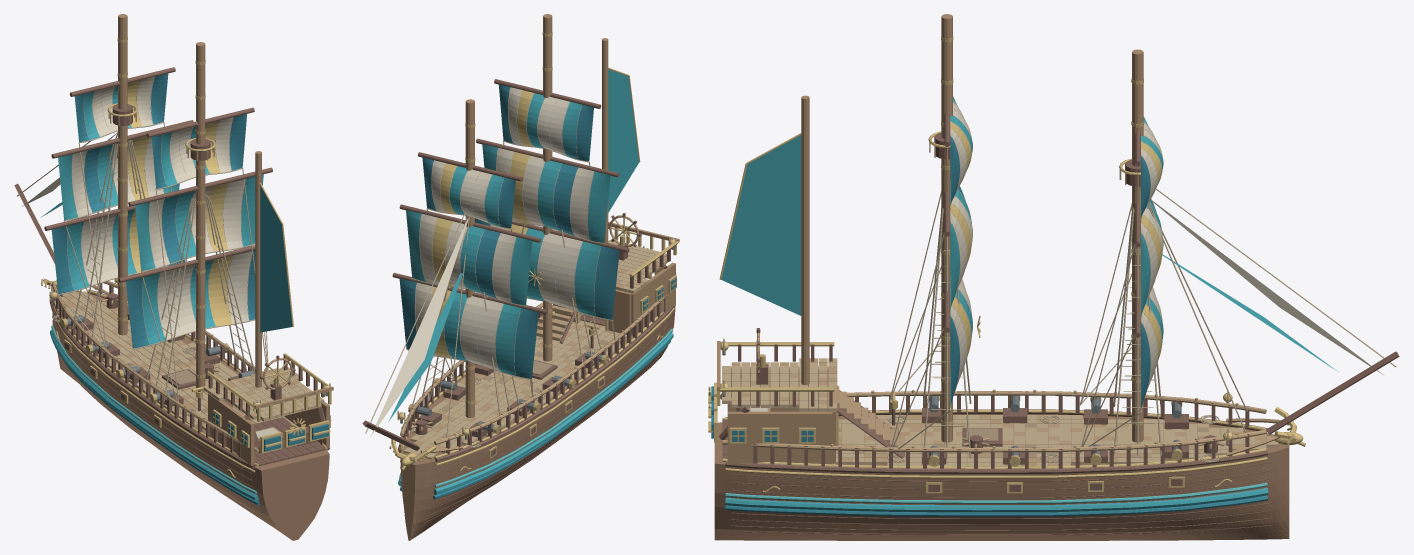
Rendered from morskoy_strannik_v2.glb.
3 renders of one model, left to right at view 1: azimuth 30°, elevation 25°; view 2: azimuth 150°, elevation 25°; view 3: azimuth 270°, elevation 25°, orthographic. The views are drawn at different scales.
Parts seen in each view (by area): view 1: MorskoyStrannik_CarvedHull, yards_0061, MorskoyStrannik_Deck, standing_shrouds_0068, _Sail_2_0_0_0157, mast_1_main_0070, mast_0_main_0059, bulwark_posts_0017, MorskoyStrannik_Quarterdeck, cabin_side_wall_0022, sail_clews_0067, painted_hull_bands_0006 (+70 smaller); view 2: MorskoyStrannik_CarvedHull, MorskoyStrannik_Deck, yards_0061, _Sail_2_0_0_0157, bulwark_posts_0017, headsail_0_0079, painted_hull_bands_0006, _Deck_0014, _Deck_0015, continuous_bulwark_rails_0018, mast_1_main_0070, _Sail_1_0_0_0133 (+66 smaller); view 3: MorskoyStrannik_CarvedHull, _Sail_2_0_0_0157, MorskoyStrannik_Deck, cabin_side_wall_0022, continuous_bulwark_rails_0018, painted_hull_bands_0006, bulwark_posts_0017, painted_hull_bands_0009, MorskoyStrannik_Quarterdeck, standing_shrouds_0068, mast_1_main_0070, _Deck_0015 (+20 smaller).
Part boxes in pixels (left/top/right/bottom): MorskoyStrannik_CarvedHull: left=53, top=291, right=329, bottom=540; yards_0061: left=44, top=67, right=272, bottom=282; MorskoyStrannik_Deck: left=59, top=291, right=230, bottom=393; standing_shrouds_0068: left=72, top=140, right=255, bottom=401; _Sail_2_0_0_0157: left=260, top=186, right=292, bottom=332; mast_1_main_0070: left=196, top=42, right=205, bottom=391; mast_0_main_0059: left=118, top=14, right=127, bottom=335; bulwark_posts_0017: left=53, top=282, right=322, bottom=457; MorskoyStrannik_Quarterdeck: left=203, top=367, right=324, bottom=420; cabin_side_wall_0022: left=208, top=393, right=329, bottom=465; sail_clews_0067: left=58, top=122, right=268, bottom=408; painted_hull_bands_0006: left=50, top=330, right=327, bottom=501; MorskoyStrannik_CarvedHull: left=400, top=305, right=675, bottom=540; MorskoyStrannik_Deck: left=403, top=371, right=581, bottom=461; yards_0061: left=392, top=79, right=629, bottom=314; _Sail_2_0_0_0157: left=608, top=69, right=638, bottom=212; bulwark_posts_0017: left=401, top=295, right=665, bottom=454; headsail_0_0079: left=370, top=218, right=468, bottom=437; painted_hull_bands_0006: left=398, top=332, right=673, bottom=494; _Deck_0014: left=534, top=319, right=626, bottom=375; _Deck_0015: left=414, top=319, right=620, bottom=457; continuous_bulwark_rails_0018: left=400, top=295, right=666, bottom=444; mast_1_main_0070: left=543, top=14, right=552, bottom=361; _Sail_1_0_0_0133: left=594, top=246, right=619, bottom=319; MorskoyStrannik_CarvedHull: left=714, top=414, right=1289, bottom=540; _Sail_2_0_0_0157: left=721, top=135, right=801, bottom=315; MorskoyStrannik_Deck: left=968, top=415, right=1277, bottom=466; cabin_side_wall_0022: left=727, top=366, right=832, bottom=464; continuous_bulwark_rails_0018: left=722, top=391, right=1266, bottom=452; painted_hull_bands_0006: left=725, top=487, right=1268, bottom=512; bulwark_posts_0017: left=736, top=391, right=1249, bottom=468; painted_hull_bands_0009: left=725, top=409, right=1268, bottom=473; MorskoyStrannik_Quarterdeck: left=722, top=358, right=837, bottom=411; standing_shrouds_0068: left=923, top=209, right=1161, bottom=458; mast_1_main_0070: left=941, top=14, right=952, bottom=444; _Deck_0015: left=836, top=415, right=1266, bottom=466.
Bounding box in the file's own units: 8.8 × 22.07 × 26.47.
